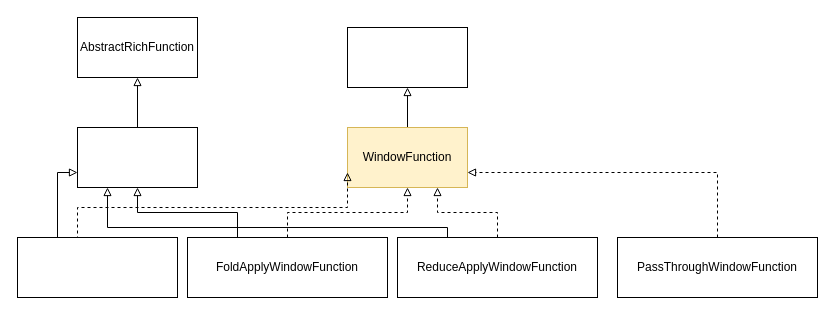
The diagram is 835 pixels wide and 315 high, and some of its shapes have lost their labels. Here are the shapes that lost their labels. From the top down, the centre of each, then its label:
(407,57): Function
(137,157): WarppingFunction
(97,267): CoGroupWindowFunction
